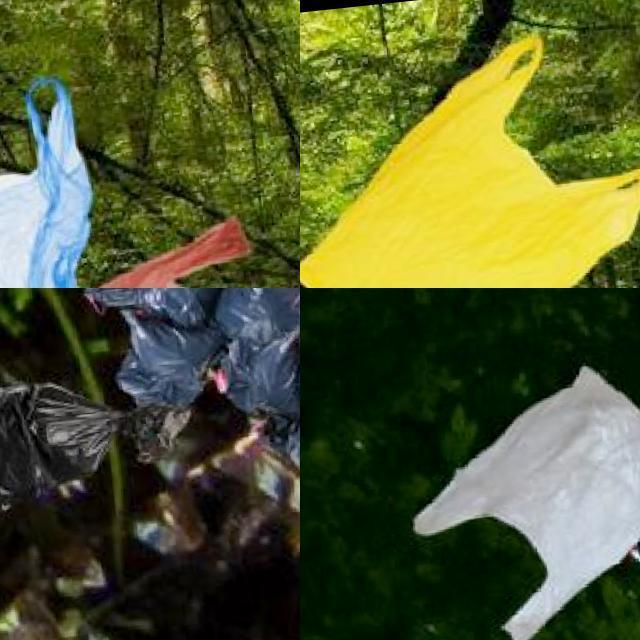waste: (300, 23, 640, 288), (401, 359, 640, 640), (0, 352, 197, 519), (0, 69, 119, 288), (0, 217, 300, 288), (71, 288, 245, 333), (207, 332, 300, 415), (276, 408, 300, 535)
